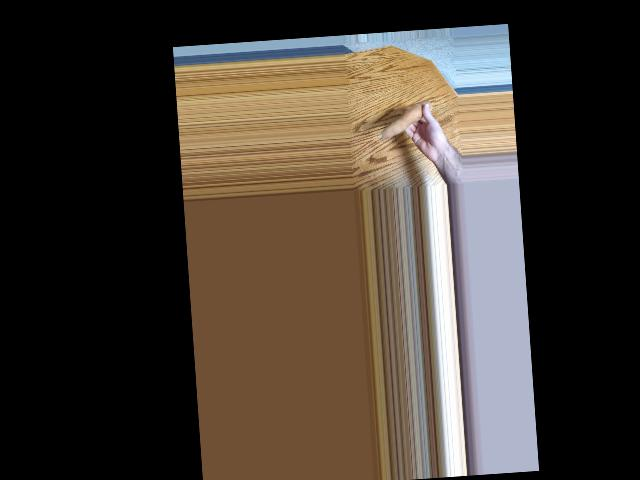sweet_potato: (379, 100, 435, 139)
